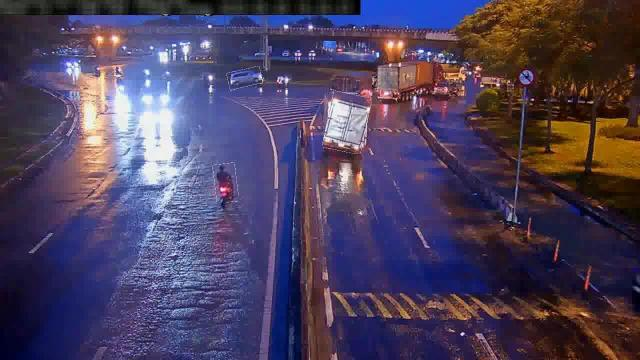Bike: (214, 163, 238, 202)
Car: (228, 68, 262, 88)
Truck: (325, 93, 369, 153)
